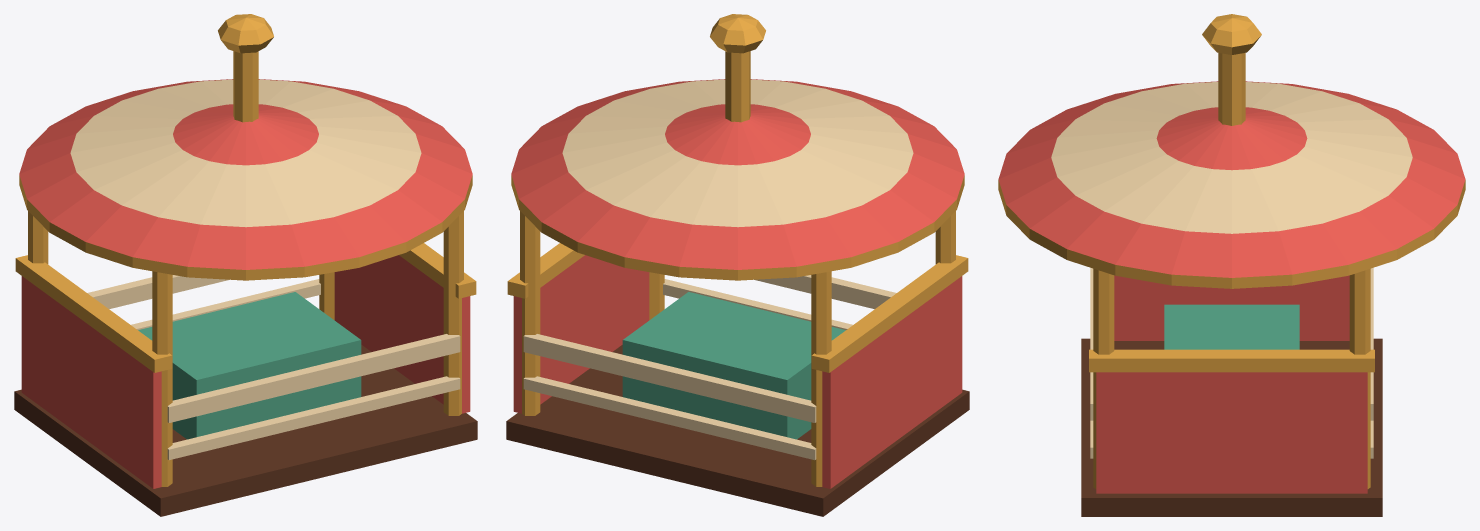
The model's file is ParkParkFerrisCabin.obj.
The picture shows the model from 3 angles, left to right: view 1: azimuth 30°, elevation 25°; view 2: azimuth 150°, elevation 25°; view 3: azimuth 270°, elevation 25°; orthographic projection. The views are drawn at different scales.
Visible parts, largest first — view 1: ParkParkFerrisCabin; view 2: ParkParkFerrisCabin; view 3: ParkParkFerrisCabin.
Boxes of the visible parts, left/top/right/bottom form: ParkParkFerrisCabin: left=14, top=14, right=477, bottom=516; ParkParkFerrisCabin: left=506, top=14, right=969, bottom=516; ParkParkFerrisCabin: left=998, top=14, right=1465, bottom=516.
Size of the model in its own units: 3.1 by 3.07 by 3.1.
